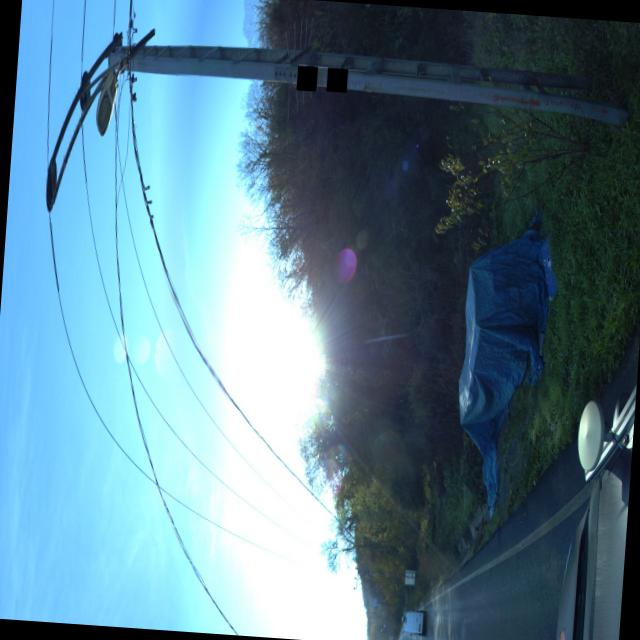Utility Pole Information Plate: (296, 64, 317, 90), (327, 66, 348, 91)
